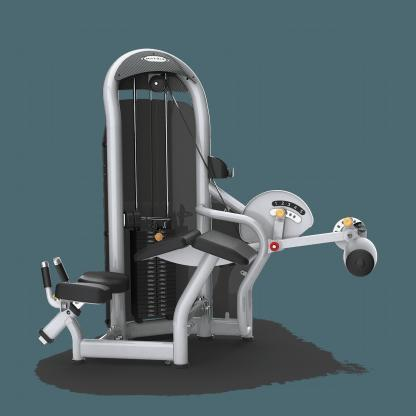reg curl machine: (33, 45, 381, 371)
